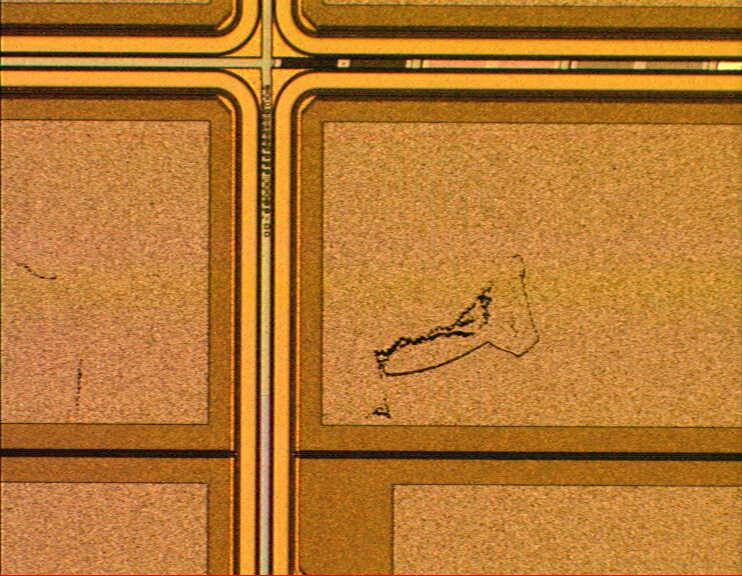SCRATCH: (1, 243, 551, 446)
